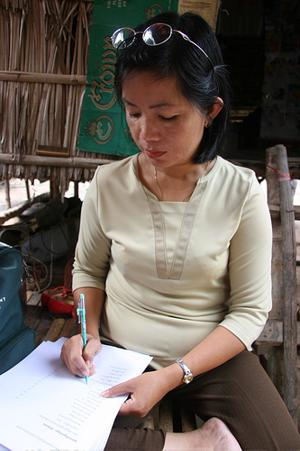person: (59, 13, 300, 450)
